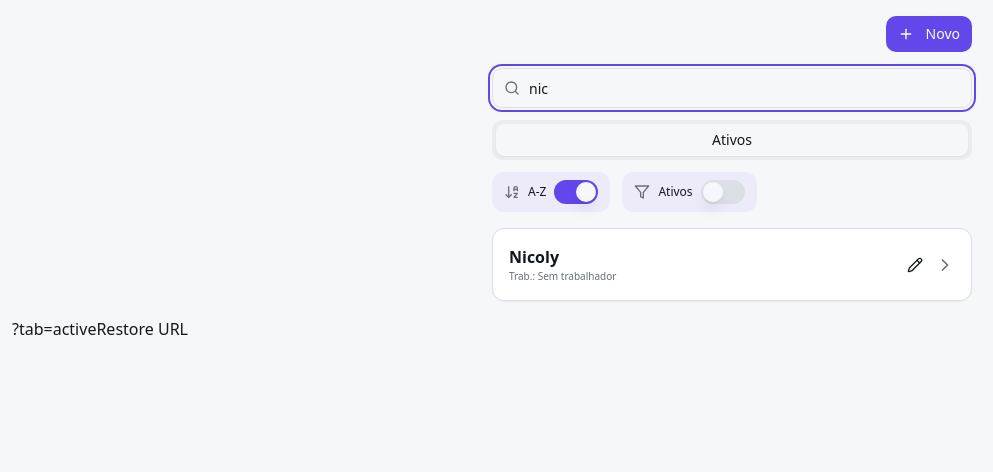
continuous client search › filters immediately, preserves focus and edits, and writes the URL only on blur
The image size is (993, 472).
Earlier steps of the test are not shown.
Later steps or results of the test are not shown.
Expected: the text with test id "location" reads "?tab=active", [12,318,96,340]
Replace the text in the field with placeholder "Buscar por nome, código, telefone ou documento..." with "nicoly" at (732, 88), box [492,68,972,108]
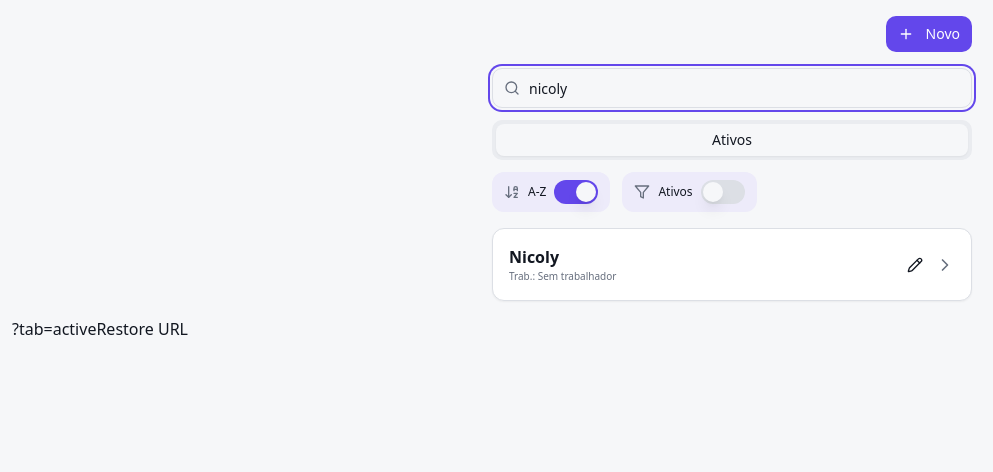
Expected: the text with test id "location" reads "?tab=active", [12,318,96,340]
Replace the text in the field with placeholder "Buscar por nome, código, telefone ou documento..." with "nicol" at (732, 88), box [492,68,972,108]
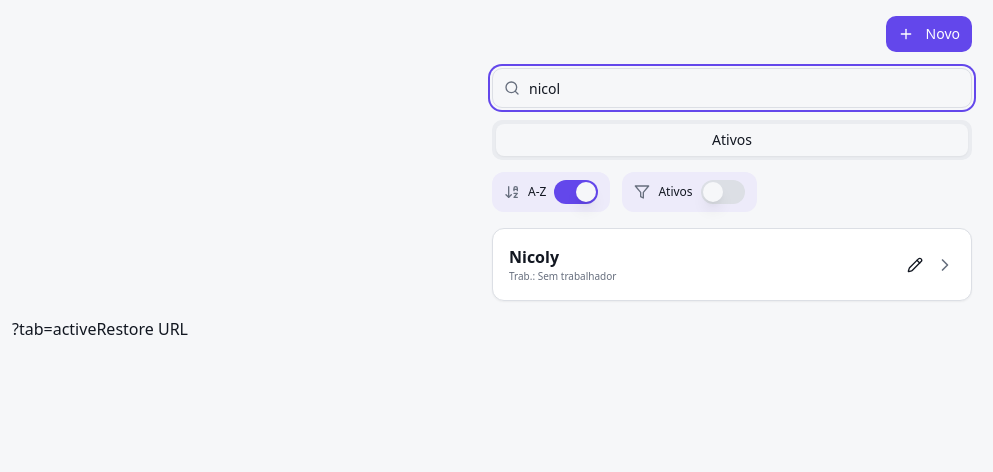
Expected: the text with test id "location" reads "?tab=active", [12,318,96,340]
Replace the text in the field with placeholder "Buscar por nome, código, telefone ou documento..." with "zzzz" at (732, 88), box [492,68,972,108]
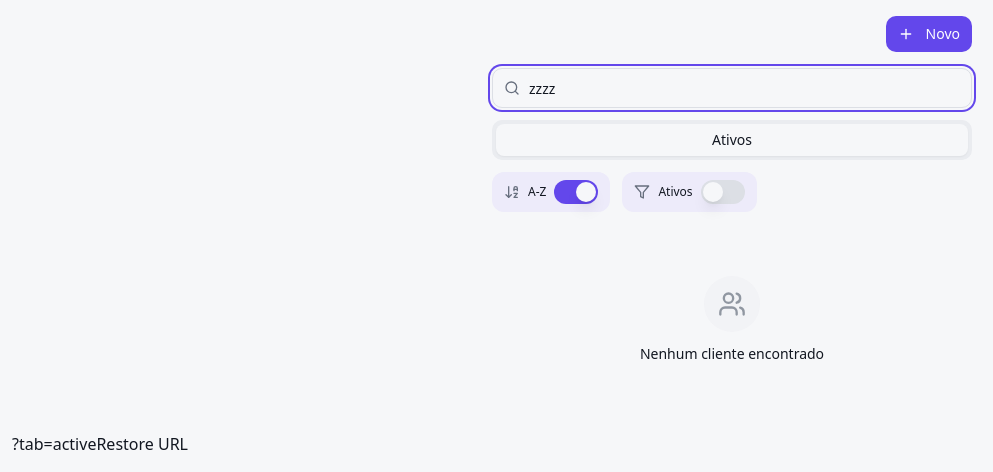
Expected: the text with test id "location" reads "?tab=active", [12,433,96,455]
Replace the text in the field with placeholder "Buscar por nome, código, telefone ou documento..." with "Ana" at (732, 88), box [492,68,972,108]
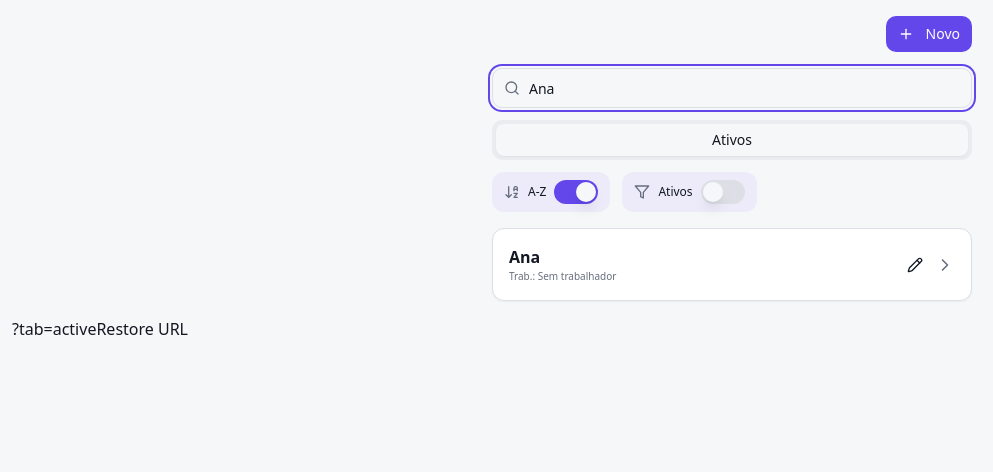
Expected: the text with test id "location" reads "?tab=active", [12,318,96,340]
Result: the text "Ana" is shown at [509,246,540,268]
Leave the field with placeholder "Buscar por nome, código, telefone ou documento...", box [492,68,972,108]
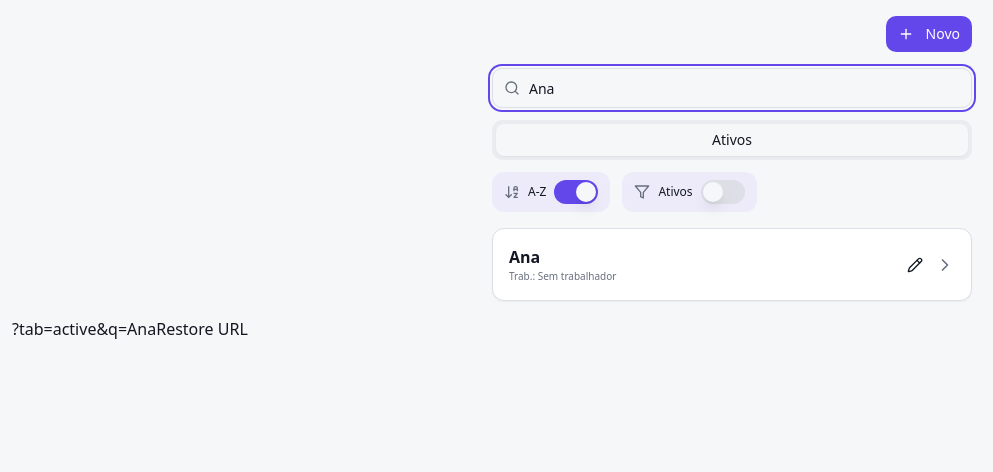
Result: the text with test id "location" reads "?tab=active&q=Ana" at [12,318,156,340]
Clear the field with placeholder "Buscar por nome, código, telefone ou documento..." at (732, 88), box [492,68,972,108]
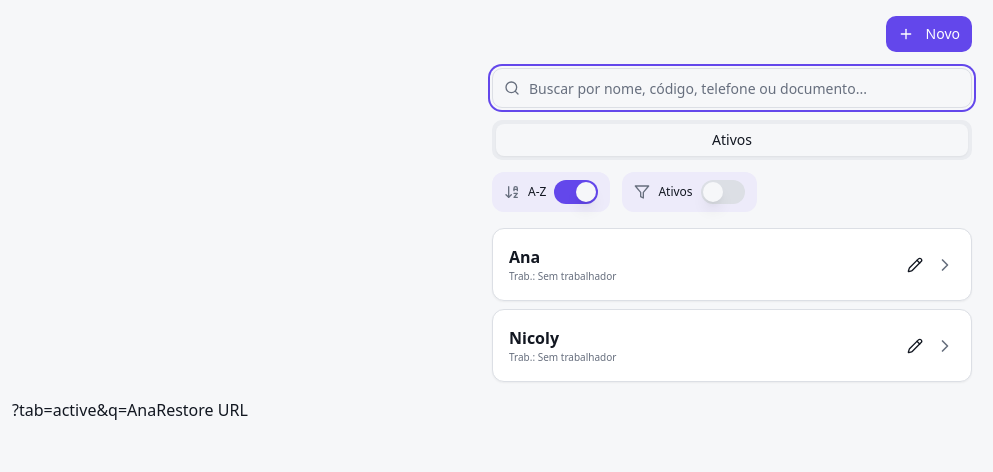
Result: the text "Ana" is shown at [509,246,540,268]
Result: the text "Nicoly" is shown at [509,327,559,349]
